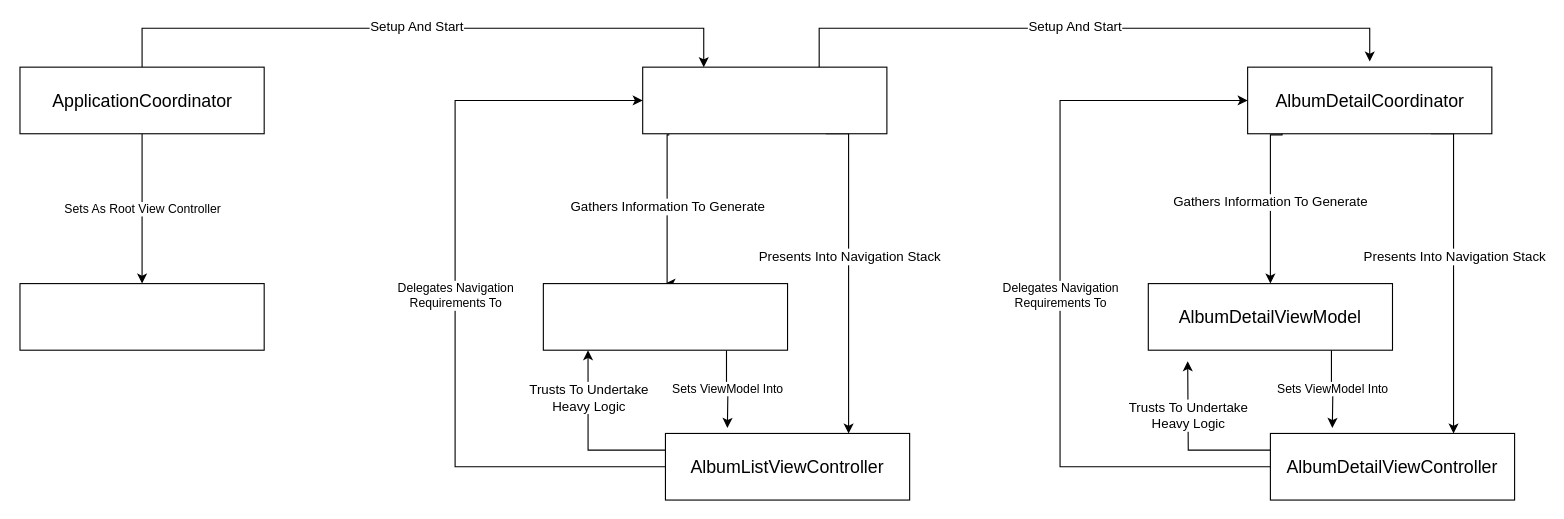
This 1564x519 diagram has some shape labels left out. Here are the shapes that lost their labels. From the top down, the box of each, then its label:
(642, 66, 887, 134): AlbumListCoordinator
(19, 282, 264, 350): UINavigationController
(542, 282, 788, 350): AlbumListViewModel
